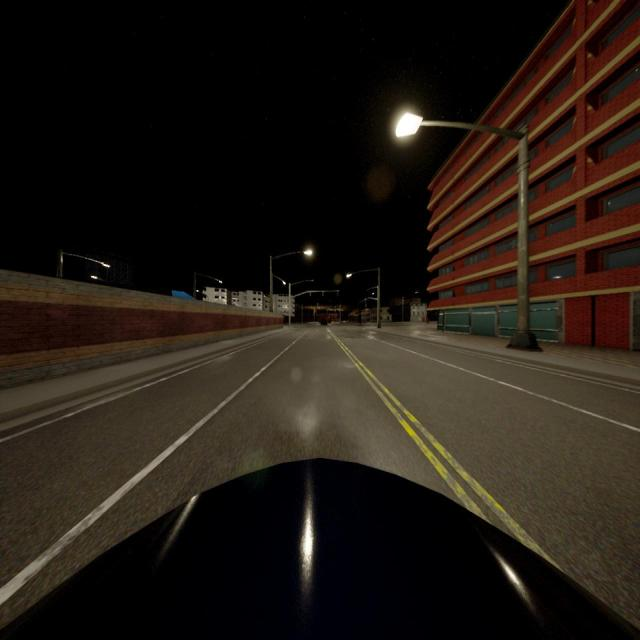Pedestrian: (426, 315, 428, 326)
Vehicle: (0, 462, 640, 638), (321, 314, 332, 325)
traffic_light: (310, 292, 311, 297), (322, 292, 323, 296), (337, 292, 338, 296)
